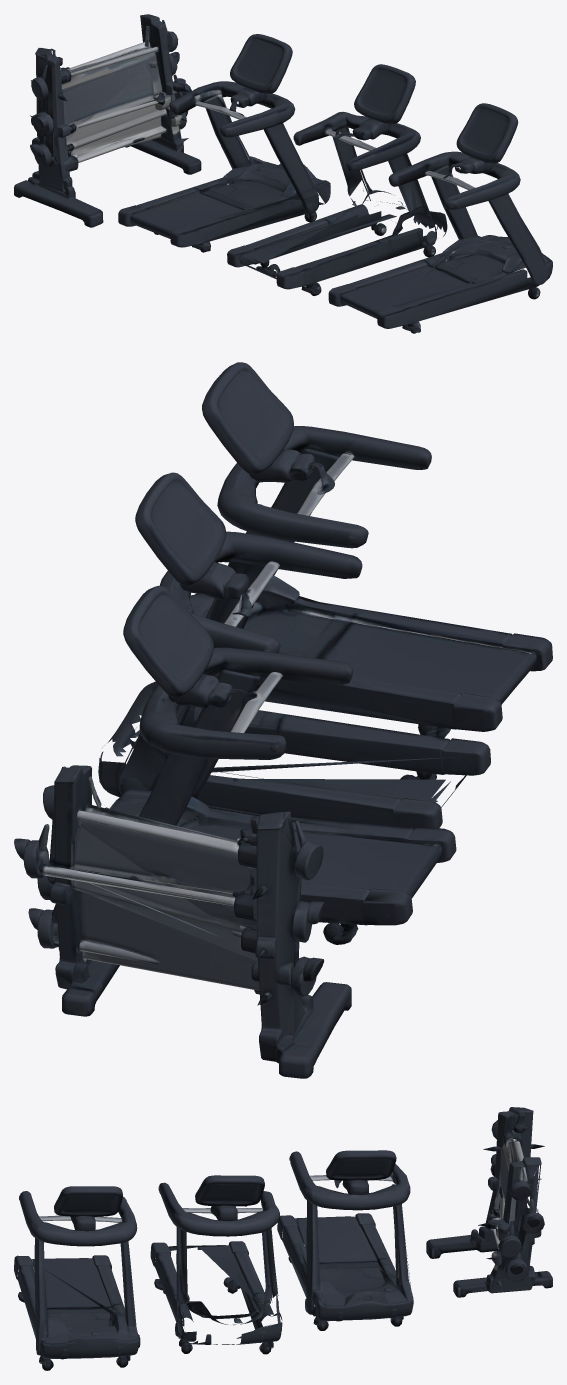
File: toonstudio_gym.glb
The picture shows the model from 3 angles, top to bottom: view 1: azimuth 30°, elevation 25°; view 2: azimuth 150°, elevation 25°; view 3: azimuth 270°, elevation 25°; orthographic projection. The views are drawn at different scales.
Parts seen in each view (by area): view 1: b38025a4_9ffb_4f45_9891_7a87d93ba300; view 2: b38025a4_9ffb_4f45_9891_7a87d93ba300; view 3: b38025a4_9ffb_4f45_9891_7a87d93ba300.
Part boxes in pixels (bbox=[...]): b38025a4_9ffb_4f45_9891_7a87d93ba300: bbox=[14, 14, 552, 333]; b38025a4_9ffb_4f45_9891_7a87d93ba300: bbox=[14, 362, 552, 1078]; b38025a4_9ffb_4f45_9891_7a87d93ba300: bbox=[14, 1107, 552, 1370].
Bounding box in the file's own units: 1.92 × 1.13 × 3.
1 material, 1 textured.
